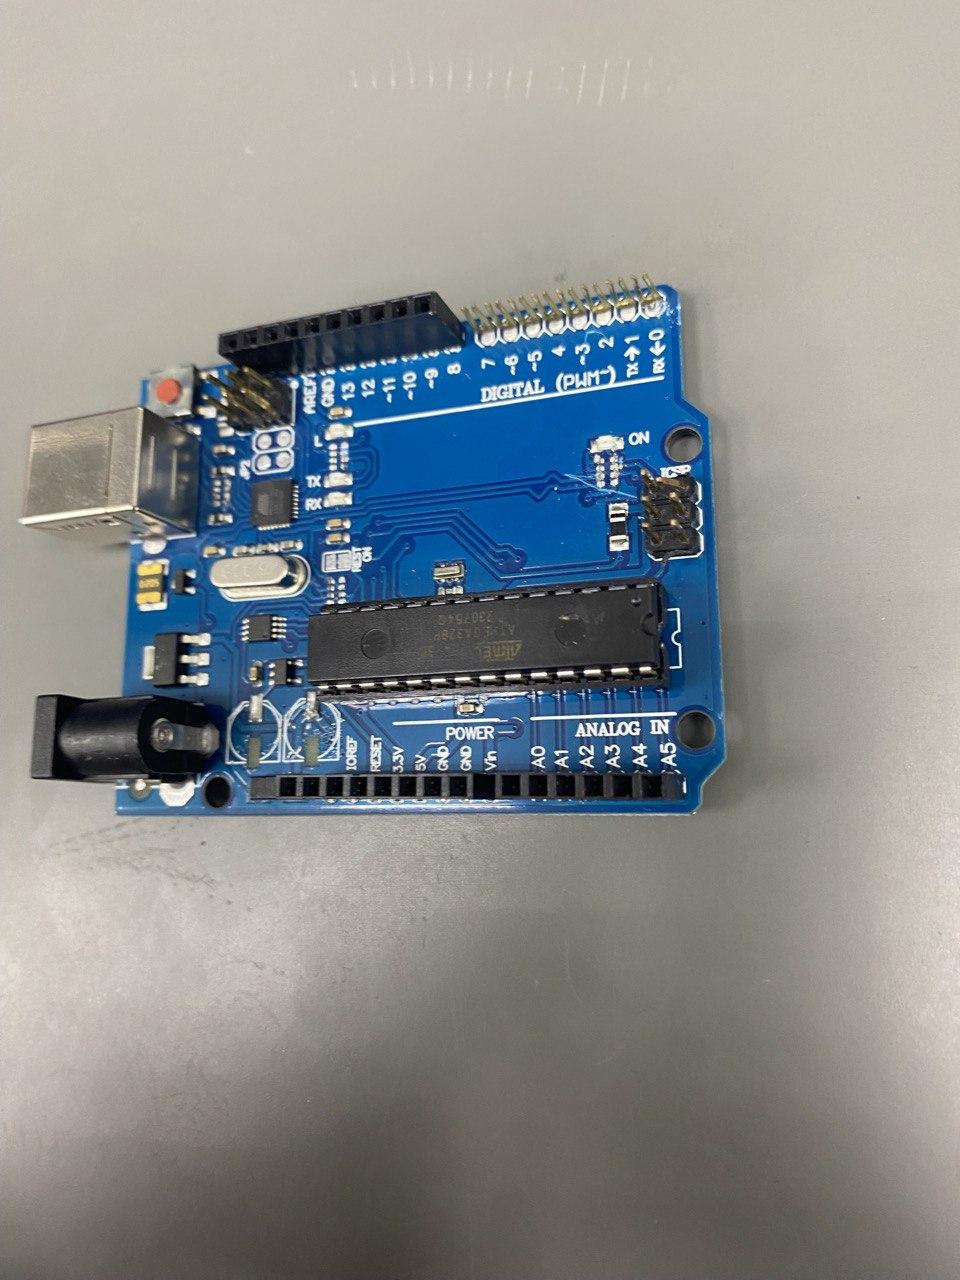ATmega328 chip: (308, 579, 669, 705)
Arduino board: (18, 273, 727, 816)
USB: (17, 406, 201, 546)
pins: (219, 291, 462, 380), (248, 773, 493, 799), (493, 771, 684, 799)
